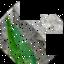Eclipta: (0, 8, 60, 64)
